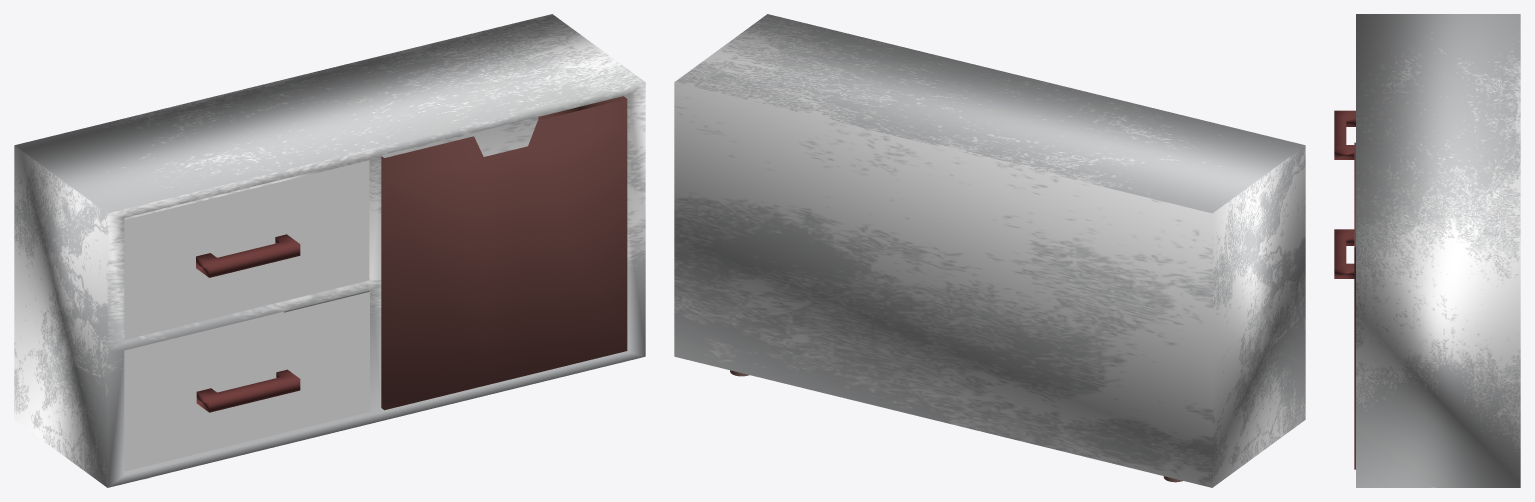
The model's file is d-havenna.glb.
3 renders of one model, left to right at view 1: azimuth 30°, elevation 25°; view 2: azimuth 150°, elevation 25°; view 3: azimuth 270°, elevation 25°, orthographic. The views are drawn at different scales.
Visible parts, largest first — view 1: Cube, Cube.001, Cube.002, Cube.003, Cube.004, Cube.005; view 2: Cube; view 3: Cube, Cube.004, Cube.005, Cube.001.
Part boxes in pixels (x1,y1,x2,y2): Cube: [14, 14, 645, 487]; Cube.001: [381, 96, 627, 410]; Cube.002: [124, 291, 369, 471]; Cube.003: [124, 160, 369, 339]; Cube.004: [196, 234, 300, 277]; Cube.005: [196, 369, 300, 412]; Cube: [674, 14, 1305, 487]; Cube: [1356, 14, 1520, 487]; Cube.004: [1334, 110, 1355, 159]; Cube.005: [1334, 229, 1354, 278]; Cube.001: [1354, 142, 1355, 469].
Size of the model in its own units: 3.2 by 1.65 by 1.09.
9 materials, 1 textured.
